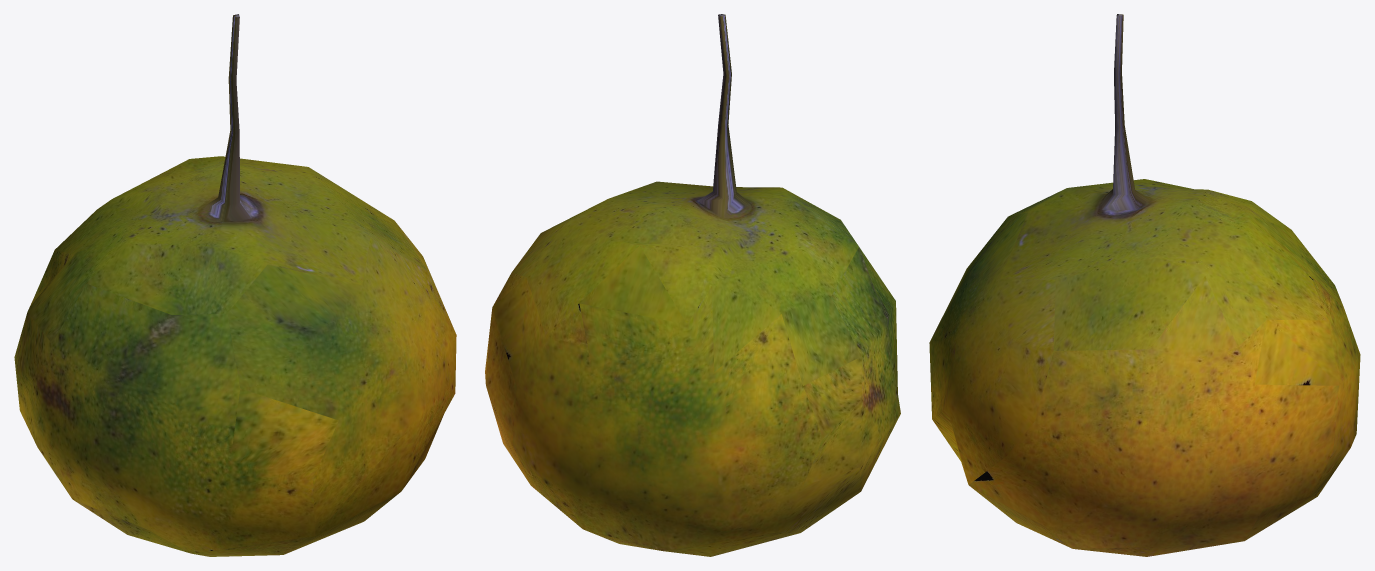
3 renders of one model, left to right at view 1: azimuth 30°, elevation 25°; view 2: azimuth 150°, elevation 25°; view 3: azimuth 270°, elevation 25°, orthographic. The views are drawn at different scales.
Parts seen in each view (by area): view 1: 08_orange; view 2: 08_orange; view 3: 08_orange.
Boxes of the visible parts, x1,y1,x2,y2 form: 08_orange: [14, 14, 456, 556]; 08_orange: [485, 14, 900, 556]; 08_orange: [929, 14, 1360, 556].
Size of the model in its own units: 86.14 by 111 by 87.21.
